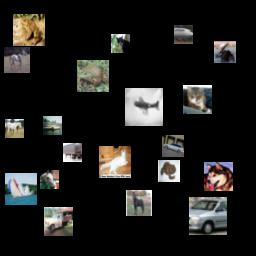airplane: (125, 88, 163, 126), (174, 25, 193, 44)
automobile: (189, 197, 227, 235), (162, 135, 184, 157)
cat: (99, 146, 131, 178), (183, 85, 212, 114), (111, 34, 130, 53)
deer: (214, 41, 236, 63)
dog: (204, 162, 233, 191)
frog: (13, 14, 45, 46), (77, 60, 109, 92), (158, 160, 180, 182)
ship: (5, 173, 37, 205), (43, 116, 62, 135)
truck: (44, 207, 73, 236), (63, 143, 82, 162)
